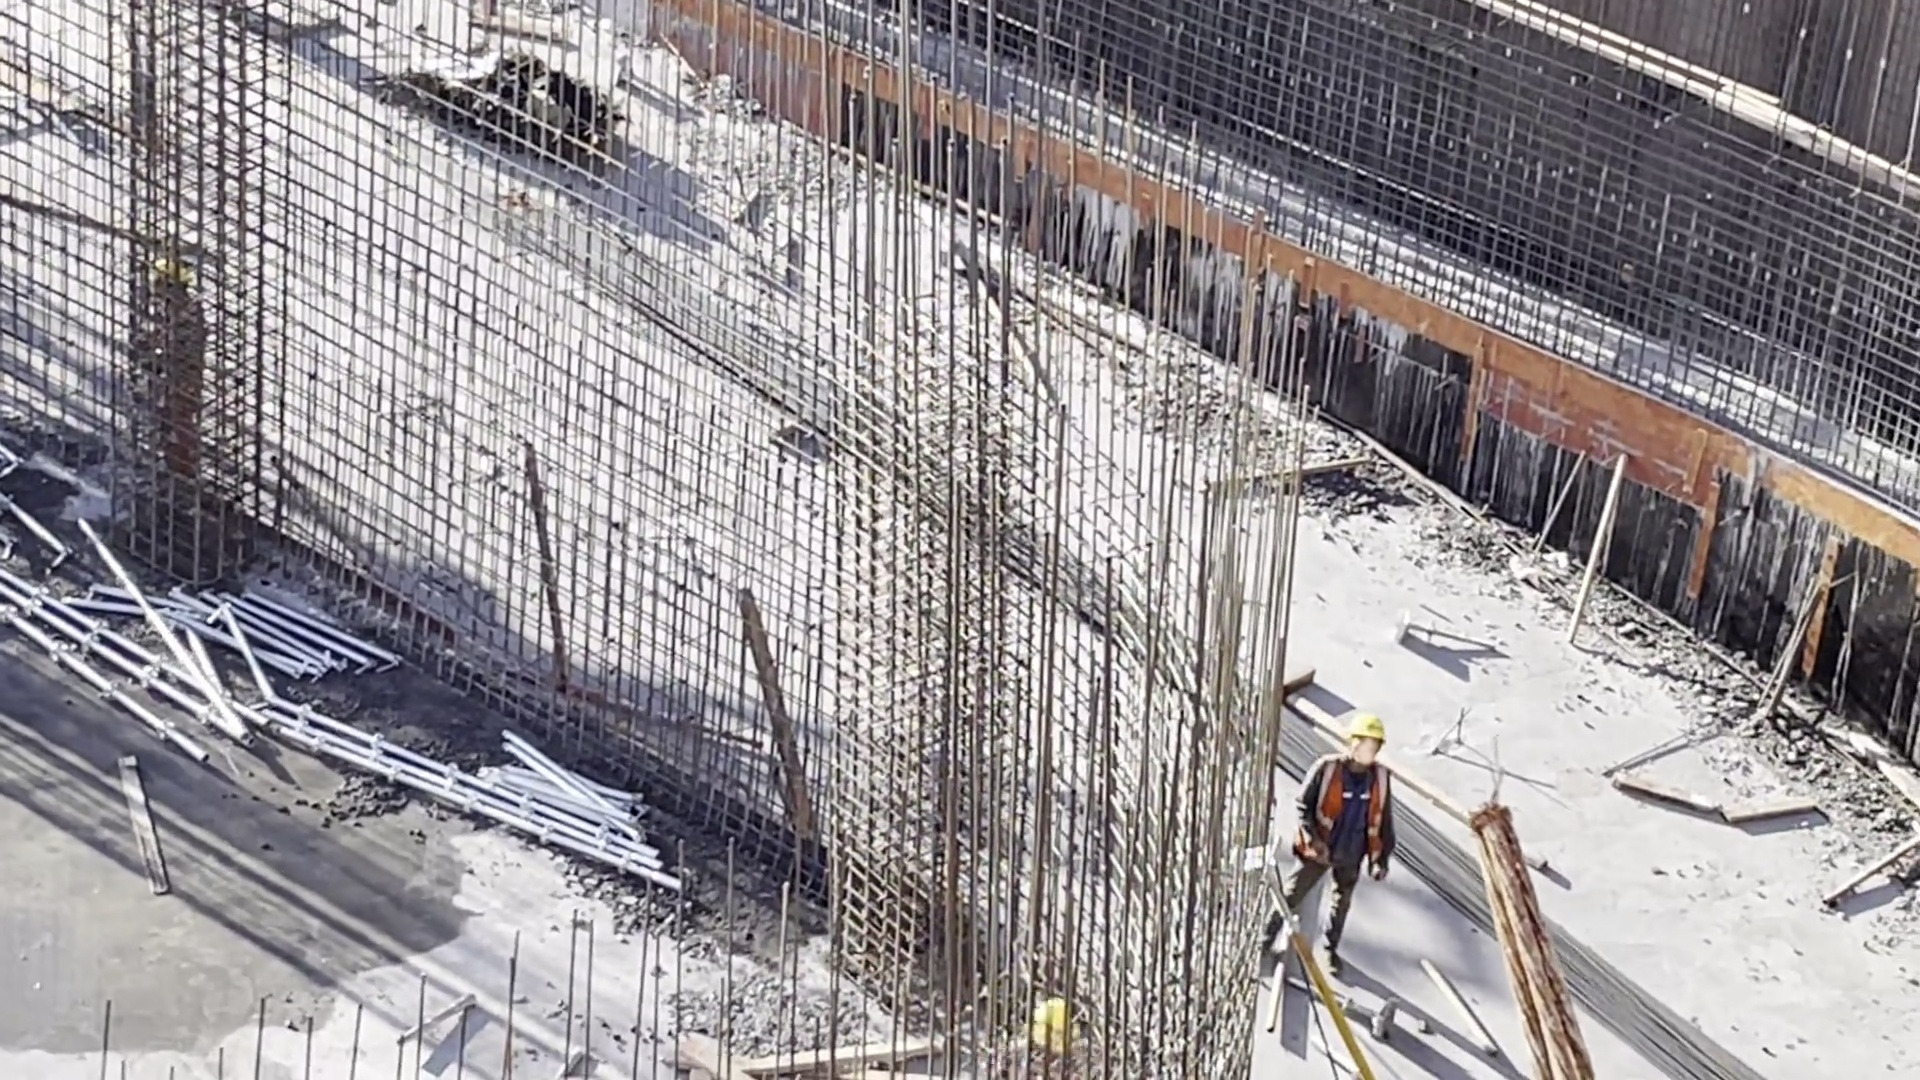helmet: (1026, 994, 1085, 1061), (1343, 709, 1392, 772), (151, 252, 193, 300)
person: (1292, 700, 1403, 985), (140, 252, 228, 501)
rebar: (1288, 718, 1727, 1080)
scaffold: (471, 745, 657, 893), (191, 581, 362, 705)
vest: (1298, 762, 1387, 877)
